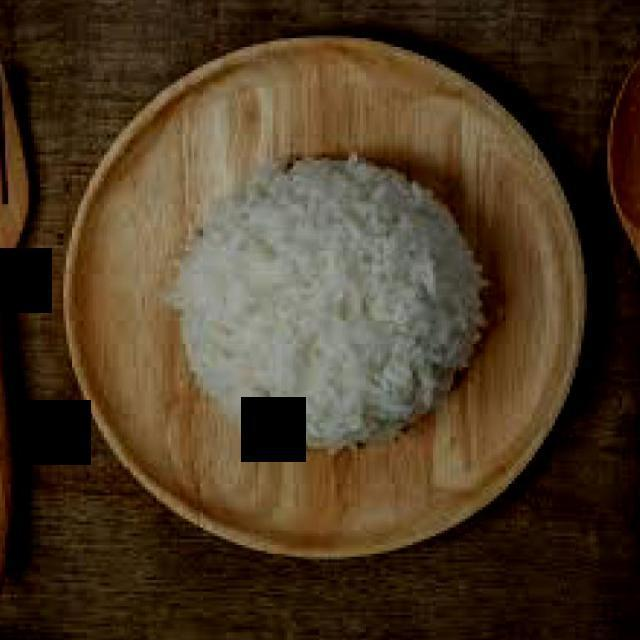Chicken -Chicken Inasal-: (172, 157, 485, 448)
